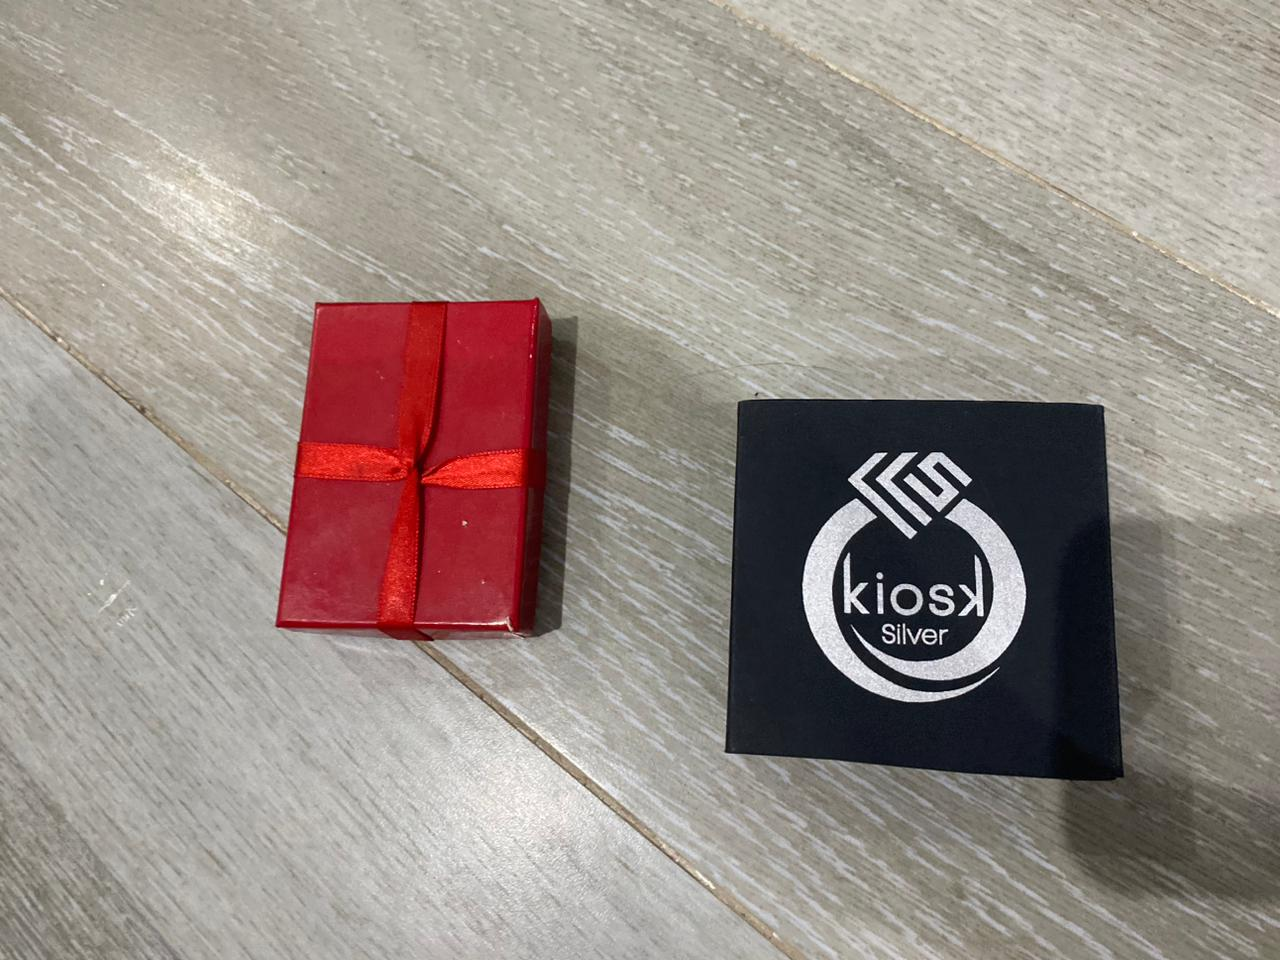Black Box: (273, 291, 553, 653)
Red Box: (720, 389, 1129, 783)
